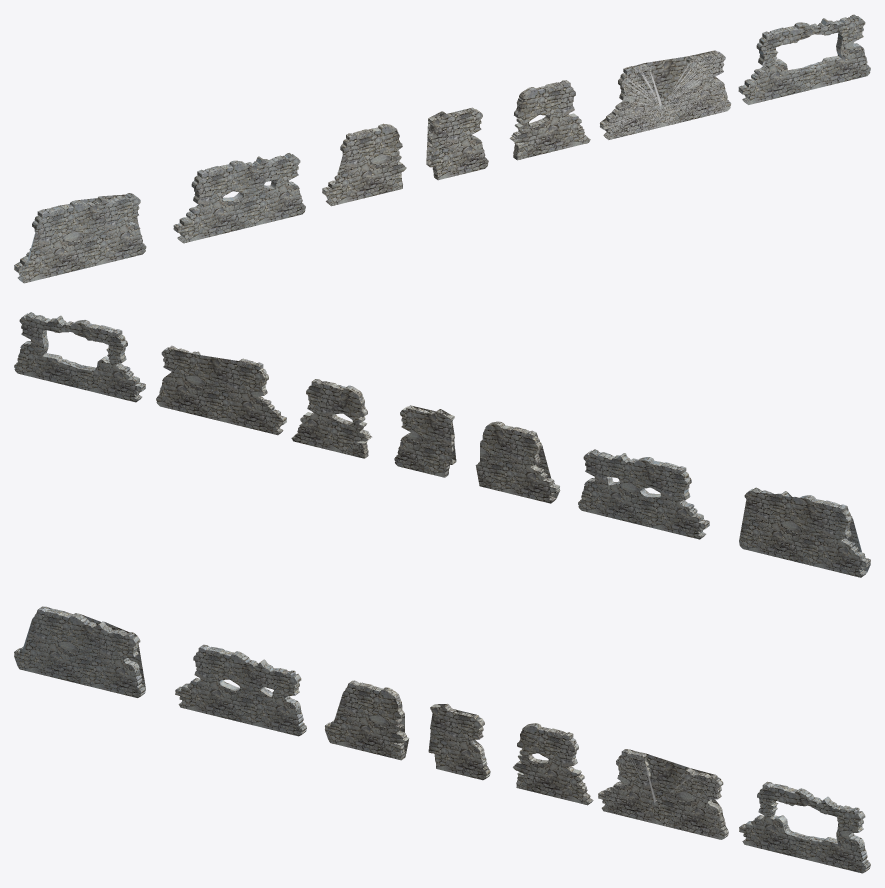
Rendered from Ruins.obj.
3 views of the same model, one above another, from view 1: azimuth 30°, elevation 25°; view 2: azimuth 150°, elevation 25°; view 3: azimuth 330°, elevation 25° (orthographic).
Visible parts, largest first — view 1: Mesh1 Group1 Model, Mesh2 Group2 Model, Mesh7 Group6 Model, Mesh8 Group7 Model, Mesh4 Group3 Model, Mesh6 Group5 Model, Mesh5 Group4 Model; view 2: Mesh1 Group1 Model, Mesh2 Group2 Model, Mesh7 Group6 Model, Mesh8 Group7 Model, Mesh4 Group3 Model, Mesh6 Group5 Model, Mesh5 Group4 Model; view 3: Mesh1 Group1 Model, Mesh2 Group2 Model, Mesh7 Group6 Model, Mesh8 Group7 Model, Mesh4 Group3 Model, Mesh6 Group5 Model, Mesh5 Group4 Model.
Boxes of the visible parts, left/top/right/bottom form: Mesh1 Group1 Model: left=14, top=193, right=146, bottom=283; Mesh2 Group2 Model: left=173, top=153, right=305, bottom=243; Mesh7 Group6 Model: left=600, top=50, right=731, bottom=139; Mesh8 Group7 Model: left=738, top=14, right=870, bottom=104; Mesh4 Group3 Model: left=322, top=123, right=406, bottom=206; Mesh6 Group5 Model: left=509, top=80, right=590, bottom=160; Mesh5 Group4 Model: left=426, top=107, right=488, bottom=180; Mesh1 Group1 Model: left=739, top=487, right=870, bottom=577; Mesh2 Group2 Model: left=578, top=449, right=709, bottom=539; Mesh7 Group6 Model: left=156, top=345, right=286, bottom=435; Mesh8 Group7 Model: left=14, top=312, right=145, bottom=402; Mesh4 Group3 Model: left=475, top=421, right=560, bottom=503; Mesh6 Group5 Model: left=291, top=379, right=371, bottom=458; Mesh5 Group4 Model: left=394, top=405, right=456, bottom=477; Mesh1 Group1 Model: left=14, top=606, right=145, bottom=697; Mesh2 Group2 Model: left=175, top=644, right=306, bottom=736; Mesh7 Group6 Model: left=598, top=749, right=728, bottom=839; Mesh8 Group7 Model: left=739, top=781, right=870, bottom=873; Mesh4 Group3 Model: left=325, top=680, right=409, bottom=760; Mesh6 Group5 Model: left=513, top=723, right=593, bottom=805; Mesh5 Group4 Model: left=428, top=704, right=490, bottom=780.
Size of the model in its own units: 66.07 by 4.89 by 0.898.
3 materials, 1 textured.
